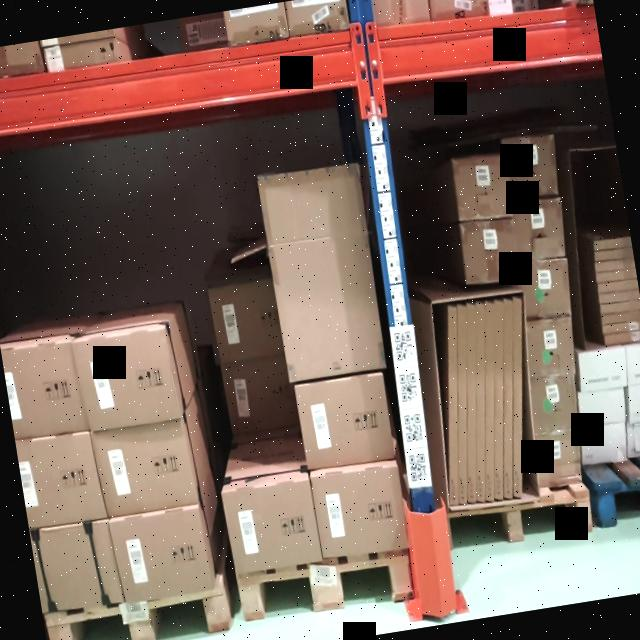box: (268, 230, 386, 380), (78, 328, 178, 430), (92, 420, 196, 516), (310, 461, 409, 559), (296, 372, 396, 469), (224, 480, 322, 576), (114, 508, 211, 600), (16, 432, 102, 528), (30, 521, 120, 611), (1, 342, 84, 438), (210, 279, 284, 361), (221, 356, 296, 436), (458, 220, 521, 284), (455, 154, 513, 221), (503, 134, 558, 198), (512, 198, 566, 260), (525, 317, 579, 376), (530, 375, 579, 435), (521, 260, 572, 317), (532, 432, 582, 487), (578, 424, 628, 467), (578, 349, 626, 391), (578, 388, 626, 427), (503, 298, 512, 500), (476, 302, 485, 503), (458, 306, 467, 504), (514, 296, 522, 500), (487, 303, 495, 502), (468, 304, 476, 503), (448, 306, 456, 505), (496, 300, 503, 499), (598, 286, 640, 303), (594, 256, 636, 272), (596, 267, 637, 283), (594, 246, 634, 262), (596, 277, 638, 292), (625, 382, 640, 423), (600, 298, 640, 313), (601, 307, 640, 322), (604, 330, 640, 346), (594, 235, 632, 250), (625, 345, 640, 383), (601, 319, 640, 333), (626, 420, 640, 456)
